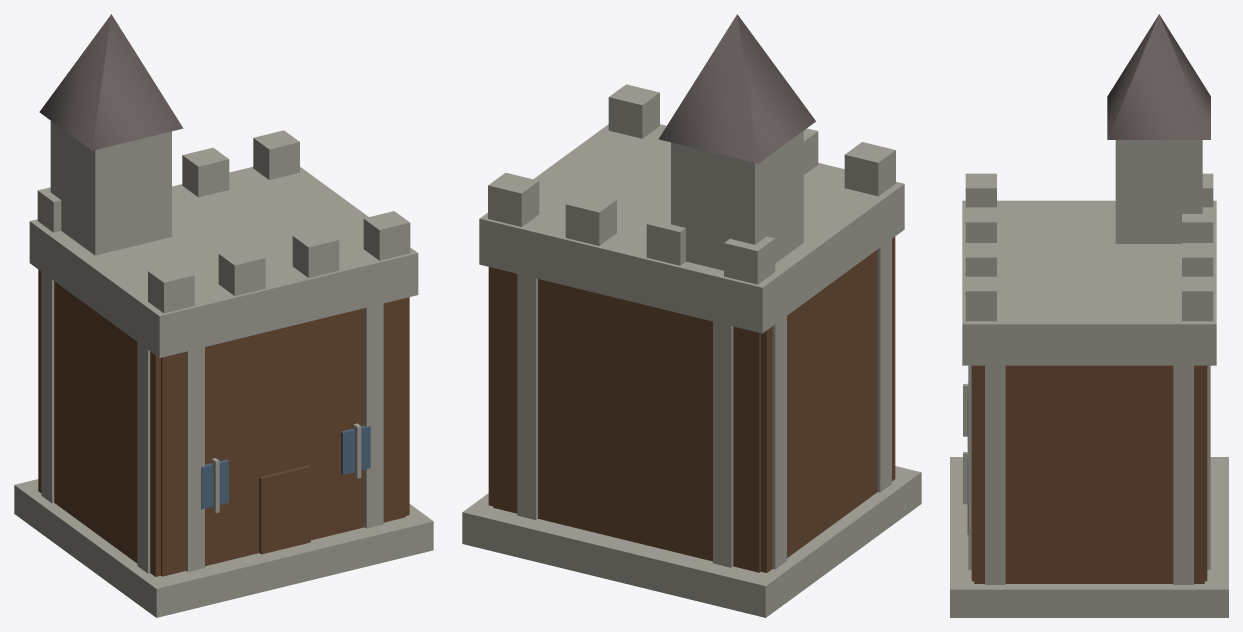
Rendered from procedural_keep@3.glb.
The picture shows the model from 3 angles, left to right: view 1: azimuth 30°, elevation 25°; view 2: azimuth 150°, elevation 25°; view 3: azimuth 270°, elevation 25°; orthographic projection. The views are drawn at different scales.
Visible parts, largest first — view 1: part_11, part_19, part_2, part_0, part_28, part_29, part_14, part_12, part_13, part_4, part_3, part_24 (+9 smaller); view 2: part_8, part_19, part_2, part_0, part_28, part_29, part_9, part_10, part_3, part_4, part_24, part_26 (+6 smaller); view 3: part_5, part_19, part_0, part_29, part_28, part_6, part_7, part_26, part_27, part_23, part_21, part_24 (+7 smaller).
Boxes of the visible parts, x1,y1,x2,y2 form: part_11: [161, 298, 405, 576]; part_19: [29, 167, 418, 357]; part_2: [38, 269, 160, 576]; part_0: [14, 479, 433, 617]; part_28: [50, 121, 171, 255]; part_29: [39, 14, 183, 150]; part_14: [259, 465, 310, 554]; part_12: [186, 347, 204, 571]; part_13: [365, 303, 383, 528]; part_4: [137, 334, 150, 573]; part_3: [41, 264, 54, 503]; part_24: [182, 147, 229, 197]; part_8: [493, 268, 760, 572]; part_19: [479, 124, 904, 333]; part_2: [761, 237, 895, 572]; part_0: [462, 466, 921, 617]; part_28: [671, 131, 803, 270]; part_29: [659, 14, 815, 163]; part_9: [713, 321, 733, 567]; part_10: [517, 274, 537, 519]; part_3: [772, 307, 786, 569]; part_4: [877, 230, 891, 492]; part_24: [565, 191, 616, 245]; part_26: [488, 172, 539, 226]; part_5: [974, 365, 1204, 583]; part_19: [962, 200, 1216, 365]; part_0: [950, 457, 1228, 617]; part_29: [1107, 14, 1210, 139]; part_28: [1115, 140, 1202, 243]; part_6: [1173, 357, 1193, 584]; part_7: [985, 357, 1005, 584]; part_26: [1182, 276, 1213, 321]; part_27: [965, 276, 996, 321]; part_23: [965, 207, 996, 242]; part_21: [965, 173, 996, 207]; part_24: [1182, 243, 1213, 276].
Bounding box in the file's own units: 9 × 15.85 × 8.
